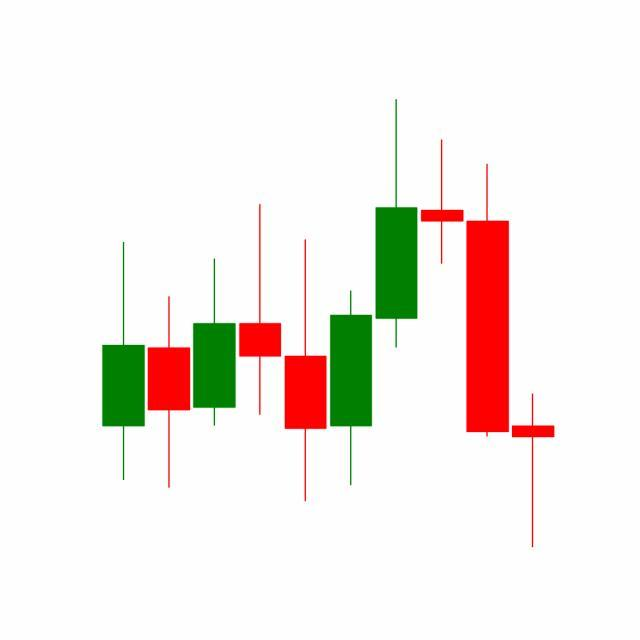Hikkake Pattern: (283, 99, 512, 507)
